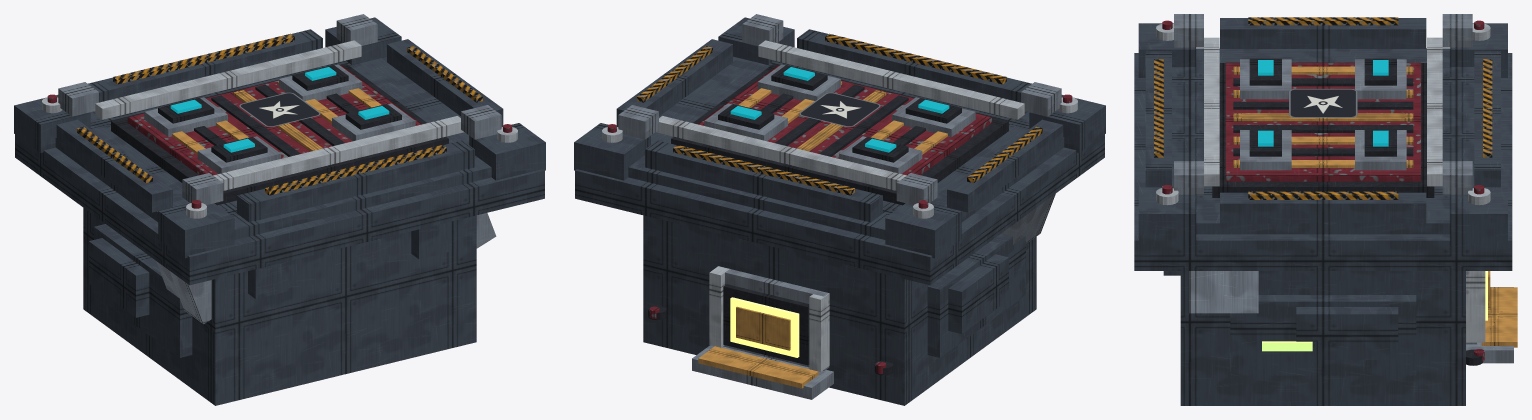
Rendered from supply_depot_lowered.glb.
3 renders of one model, left to right at view 1: azimuth 30°, elevation 25°; view 2: azimuth 150°, elevation 25°; view 3: azimuth 270°, elevation 25°, orthographic. The views are drawn at different scales.
Visible parts, largest first — view 1: Lowered_Hatch_and_Base, Raising_Armored_Structure, Hatch; view 2: Lowered_Hatch_and_Base, Raising_Armored_Structure, Hatch; view 3: Lowered_Hatch_and_Base, Raising_Armored_Structure, Hatch.
Part boxes in pixels (x1,y1,x2,y2): Lowered_Hatch_and_Base: [14, 14, 545, 285]; Raising_Armored_Structure: [83, 208, 496, 405]; Hatch: [158, 65, 401, 162]; Lowered_Hatch_and_Base: [574, 14, 1105, 285]; Raising_Armored_Structure: [643, 194, 1055, 405]; Hatch: [718, 65, 961, 162]; Lowered_Hatch_and_Base: [1134, 14, 1512, 270]; Raising_Armored_Structure: [1163, 271, 1517, 405]; Hatch: [1233, 58, 1413, 167].
Bounding box in the file's own units: 3.76 × 2.23 × 3.2.
Materials: 12 (12 with a texture image).
